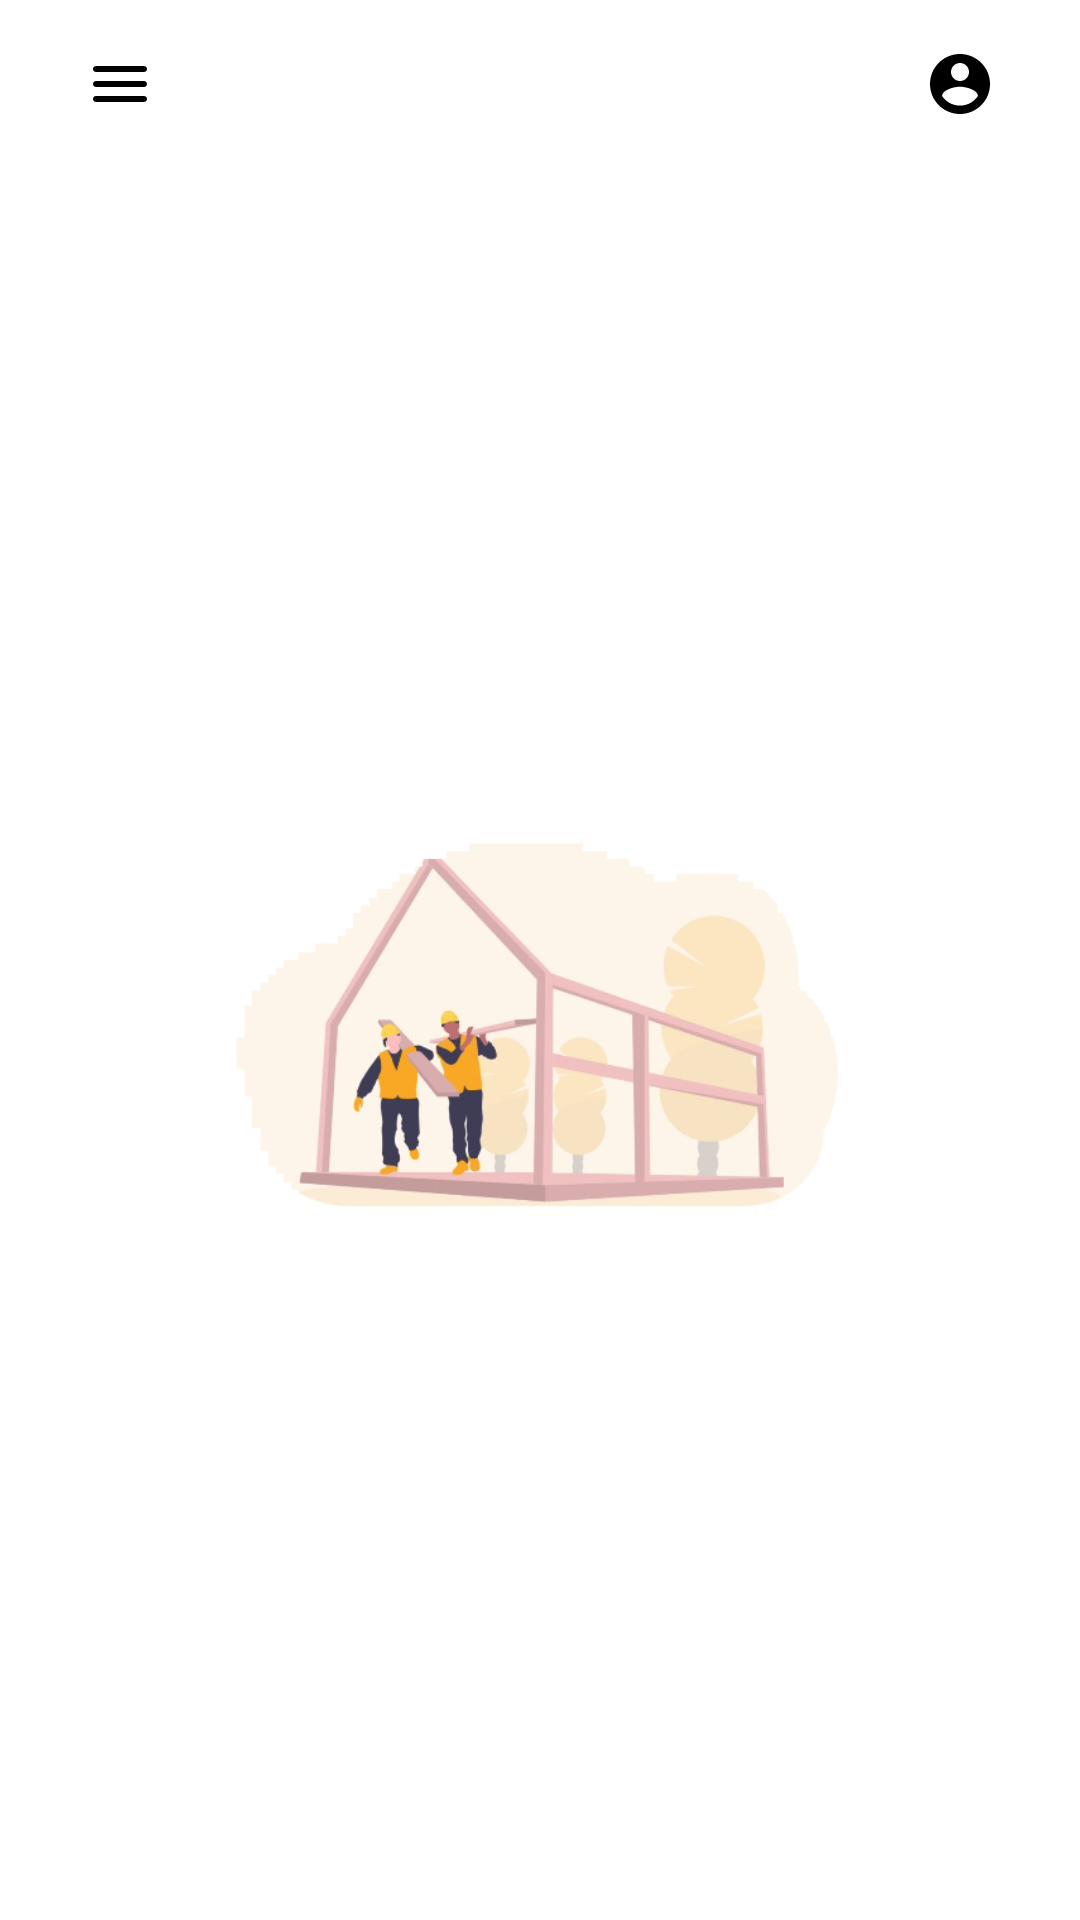

Icons on this 1080px x 1920px Android screen, each with its box as (x1, y1, x2, y2):
account circle rounded: (930, 54, 990, 114)
